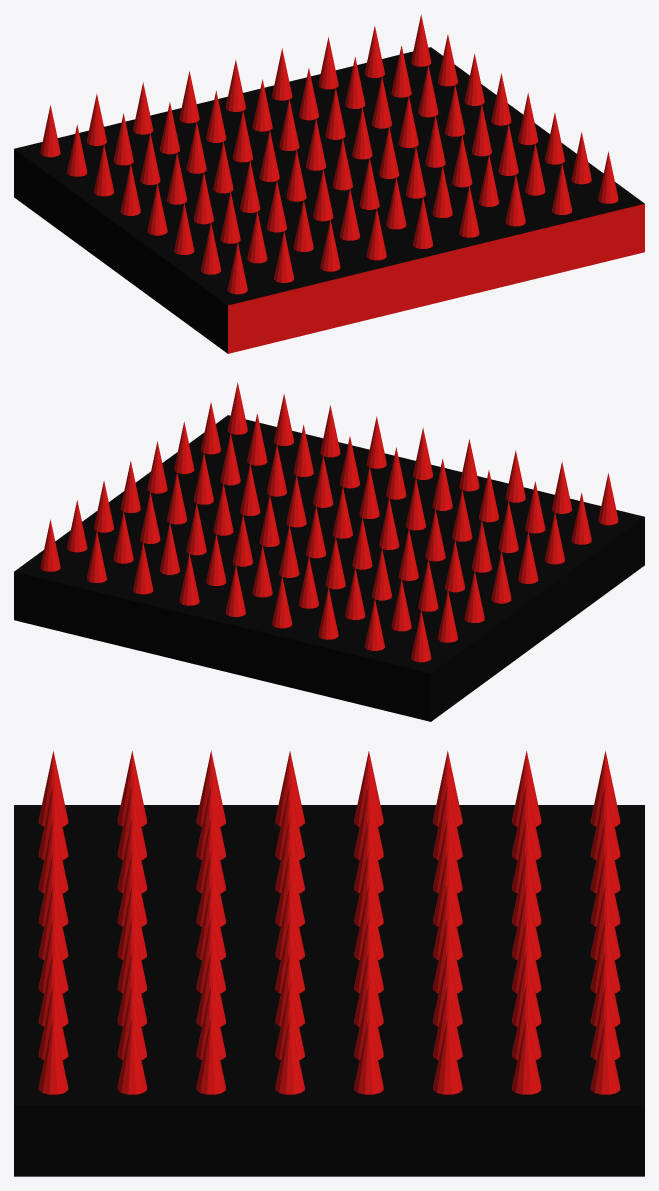
File: Spiked Ground.fbx
3 views of the same model, one above another, from view 1: azimuth 30°, elevation 25°; view 2: azimuth 150°, elevation 25°; view 3: azimuth 270°, elevation 25° (orthographic). The views are drawn at different scales.
Visible parts, largest first — view 1: cuboid, cone_5, cone_15, cone_24, cone_49, cone_62, cone, cone_2, cone_18, cone_19, cone_27, cone_30 (+61 smaller); view 2: cuboid, cone_12, cone_39, cone_54, cone_65, cone_74, cone_2, cone_3, cone_6, cone_13, cone_15, cone_28 (+61 smaller); view 3: cuboid, cone, cone_79, cone_29, cone_59, cone_19, cone_69, cone_39, cone_49, cone_2, cone_5, cone_6 (+61 smaller).
Boxes of the visible parts, left/top/right/bottom form: cuboid: left=14, top=47, right=644, bottom=353; cone_5: left=366, top=208, right=386, bottom=260; cone_15: left=386, top=177, right=406, bottom=229; cone_24: left=313, top=169, right=333, bottom=221; cone_49: left=491, top=73, right=511, bottom=125; cone_62: left=113, top=113, right=133, bottom=165; cone: left=598, top=151, right=618, bottom=203; cone_2: left=505, top=174, right=525, bottom=226; cone_18: left=525, top=143, right=545, bottom=195; cone_19: left=571, top=132, right=591, bottom=184; cone_27: left=452, top=135, right=472, bottom=187; cone_30: left=147, top=183, right=167, bottom=235; cuboid: left=14, top=415, right=644, bottom=721; cone_12: left=525, top=481, right=545, bottom=533; cone_39: left=147, top=441, right=167, bottom=493; cone_54: left=325, top=537, right=345, bottom=589; cone_65: left=252, top=545, right=272, bottom=597; cone_74: left=272, top=576, right=292, bottom=628; cone_2: left=320, top=405, right=340, bottom=457; cone_3: left=366, top=416, right=386, bottom=468; cone_6: left=505, top=450, right=525, bottom=502; cone_13: left=479, top=470, right=498, bottom=522; cone_15: left=386, top=447, right=406, bottom=499; cone_28: left=220, top=433, right=240, bottom=485; cuboid: left=14, top=805, right=644, bottom=1176; cone: left=38, top=1017, right=68, bottom=1094; cone_79: left=590, top=1017, right=620, bottom=1094; cone_29: left=196, top=1017, right=225, bottom=1094; cone_59: left=433, top=1017, right=462, bottom=1094; cone_19: left=117, top=1018, right=146, bottom=1094; cone_69: left=512, top=1018, right=541, bottom=1094; cone_39: left=275, top=1018, right=304, bottom=1094; cone_49: left=354, top=1018, right=383, bottom=1094; cone_2: left=38, top=951, right=68, bottom=1026; cone_5: left=38, top=851, right=68, bottom=926; cone_6: left=38, top=817, right=68, bottom=893.
Size of the model in its own units: 112 by 25 by 100.
Materials: 1 (1 with a texture image).
